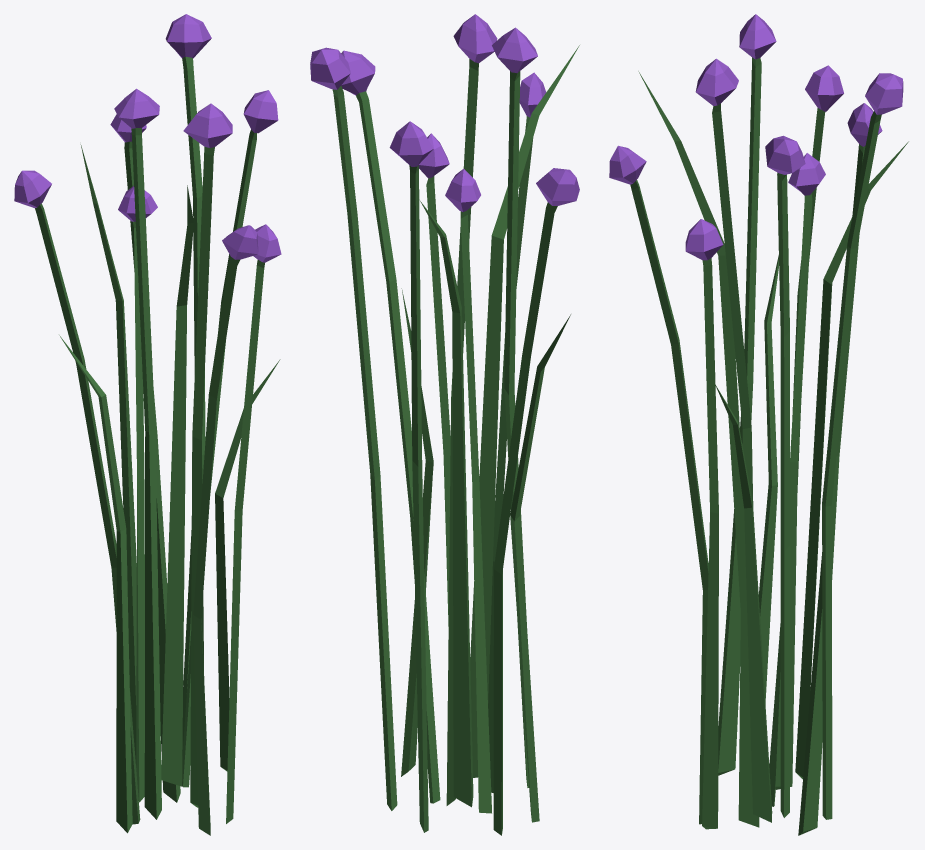
Rendered from flowers04.gltf.
The picture shows the model from 3 angles, left to right: view 1: azimuth 30°, elevation 25°; view 2: azimuth 150°, elevation 25°; view 3: azimuth 270°, elevation 25°; orthographic projection. The views are drawn at different scales.
Visible parts, largest first — view 1: Cylinder; view 2: Cylinder; view 3: Cylinder.
Part boxes in pixels (x1,y1,x2,y2): Cylinder: [14, 14, 281, 835]; Cylinder: [310, 14, 579, 835]; Cylinder: [609, 14, 908, 835].
Bounding box in the file's own units: 0.1767 × 0.5183 × 0.179.
1 material, 1 textured.
